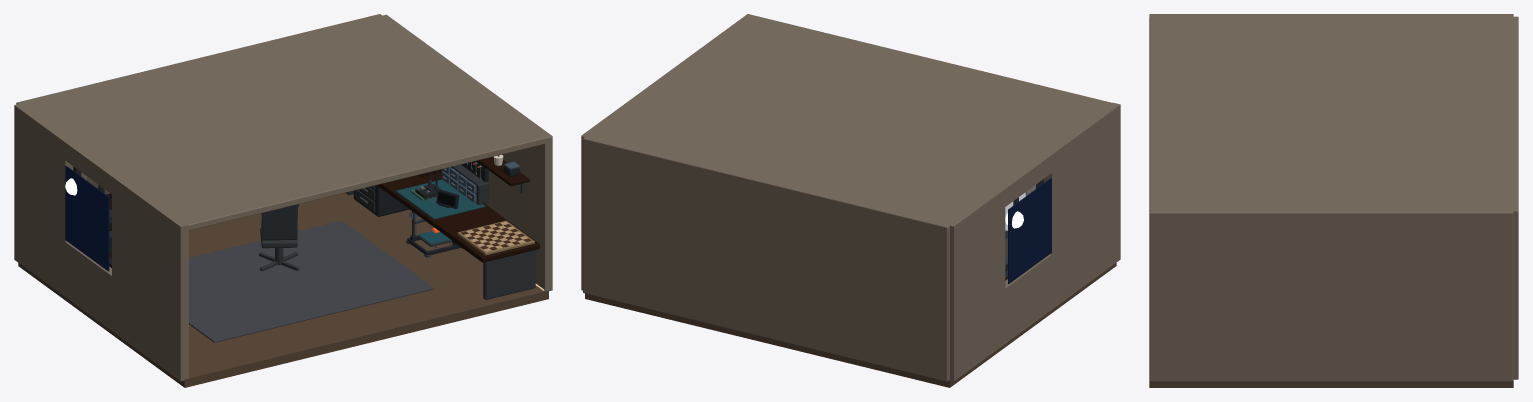
Rendered from room-redesign.glb.
The picture shows the model from 3 angles, left to right: view 1: azimuth 30°, elevation 25°; view 2: azimuth 150°, elevation 25°; view 3: azimuth 270°, elevation 25°; orthographic projection. The views are drawn at different scales.
Visible parts, largest first — view 1: Room_Ceiling, Room_Left_Wall, Room_Floor, Room_Rug, Room_Right_Wall, Left_Window_Night_Sky, Desk_Return_Top, Desk_Return_End_Panel, Embedded_Heat_Mat, Chair_Back, Room_Back_Wall, Chess_Board_board_dark (+6 smaller); view 2: Room_Ceiling, Room_Back_Wall, Room_Left_Wall, Left_Window_Night_Sky, Room_Floor, Room_Right_Wall; view 3: Room_Ceiling, Room_Right_Wall, Room_Floor, Room_Back_Wall, Room_Left_Wall.
Boxes of the visible parts, left/top/right/bottom form: Room_Ceiling: left=23, top=16, right=548, bottom=230; Room_Left_Wall: left=14, top=103, right=188, bottom=381; Room_Floor: left=18, top=193, right=548, bottom=387; Room_Rug: left=189, top=220, right=434, bottom=342; Room_Right_Wall: left=380, top=14, right=552, bottom=291; Left_Window_Night_Sky: left=65, top=166, right=109, bottom=271; Desk_Return_Top: left=377, top=172, right=539, bottom=262; Desk_Return_End_Panel: left=483, top=250, right=535, bottom=299; Embedded_Heat_Mat: left=396, top=179, right=485, bottom=219; Chair_Back: left=261, top=204, right=297, bottom=240; Room_Back_Wall: left=16, top=14, right=381, bottom=194; Chess_Board_board_dark: left=461, top=223, right=531, bottom=250; Room_Ceiling: left=589, top=15, right=1111, bottom=224; Room_Back_Wall: left=583, top=136, right=949, bottom=381; Room_Left_Wall: left=946, top=102, right=1120, bottom=381; Left_Window_Night_Sky: left=1008, top=178, right=1051, bottom=283; Room_Floor: left=585, top=230, right=1116, bottom=387; Room_Right_Wall: left=581, top=14, right=754, bottom=290; Room_Ceiling: left=1149, top=18, right=1512, bottom=210; Room_Right_Wall: left=1149, top=209, right=1513, bottom=381; Room_Floor: left=1149, top=381, right=1513, bottom=387; Room_Back_Wall: left=1512, top=16, right=1518, bottom=379; Room_Left_Wall: left=1149, top=14, right=1513, bottom=18.
Size of the model in its own units: 7.52 by 3.06 by 5.78.
